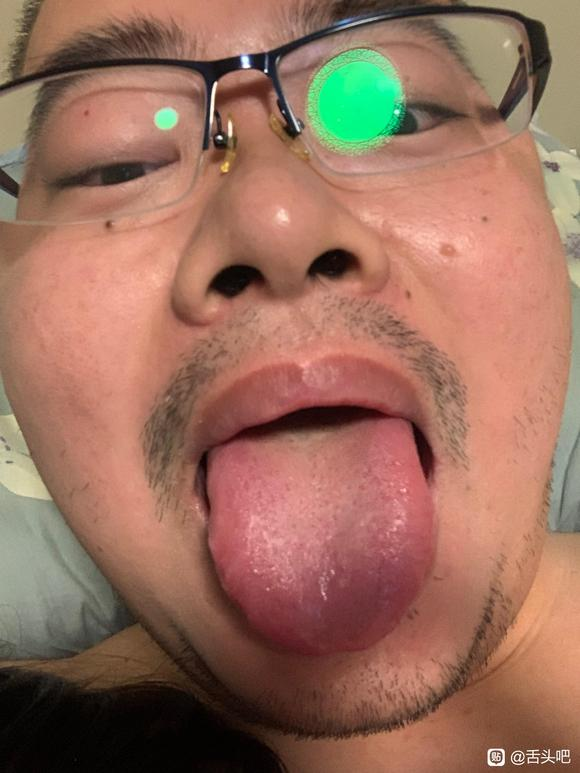chihenshe: (209, 549, 253, 628)
hongshe: (206, 415, 433, 656)
huangtaishe: (206, 415, 433, 656)
